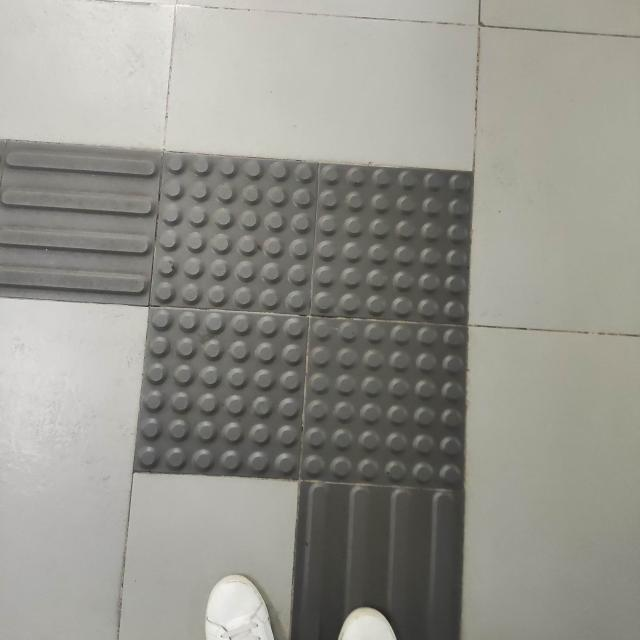kiri: (0, 96, 583, 580)
